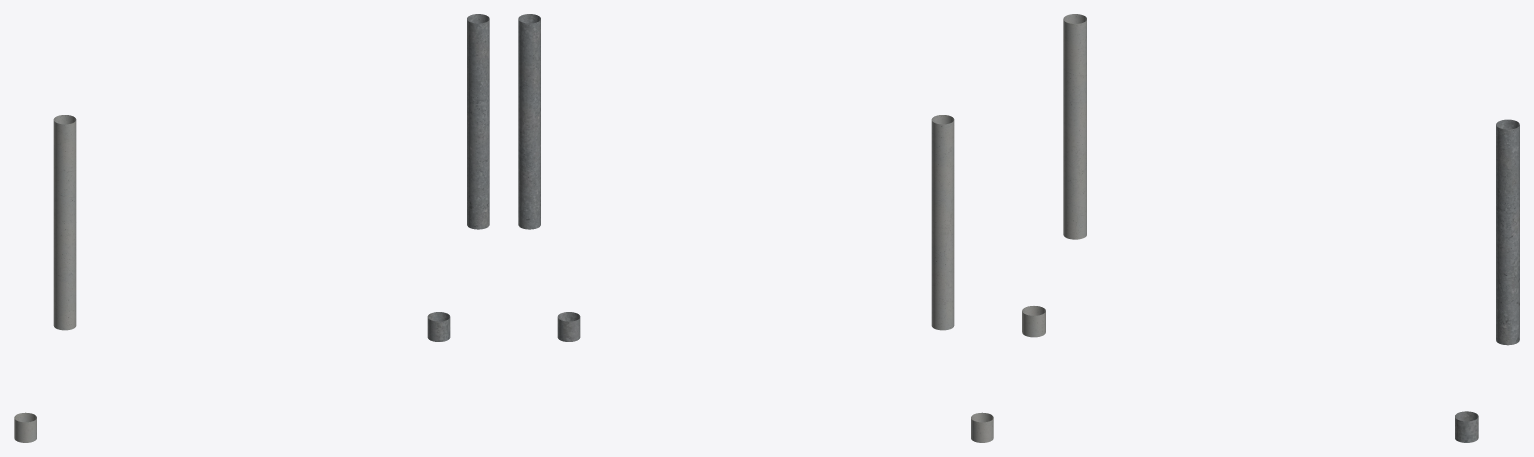
The model's file is modular_pipes.glb.
3 views of the same model, side by side, from view 1: azimuth 30°, elevation 25°; view 2: azimuth 150°, elevation 25°; view 3: azimuth 330°, elevation 25° (orthographic). The views are drawn at different scales.
Parts seen in each view (by area): view 1: pipe_100cm_pvc, pipe_100cm_metal, pipe_10cm_metal, pipe_10cm_pvc; view 2: pipe_100cm_pvc, pipe_100cm_metal, pipe_10cm_metal, pipe_10cm_pvc; view 3: pipe_100cm_metal, pipe_100cm_pvc, pipe_10cm_pvc, pipe_10cm_metal.
Boxes of the visible parts, x1=… form: pipe_100cm_pvc: x1=53, y1=115, x2=76, y2=330; pipe_100cm_metal: x1=467, y1=14, x2=489, y2=229; pipe_10cm_metal: x1=427, y1=312, x2=450, y2=341; pipe_10cm_pvc: x1=14, y1=412, x2=36, y2=442; pipe_100cm_pvc: x1=931, y1=115, x2=954, y2=330; pipe_100cm_metal: x1=518, y1=14, x2=540, y2=229; pipe_10cm_metal: x1=557, y1=312, x2=580, y2=341; pipe_10cm_pvc: x1=971, y1=412, x2=993, y2=442; pipe_100cm_metal: x1=1496, y1=119, x2=1519, y2=345; pipe_100cm_pvc: x1=1063, y1=14, x2=1086, y2=239; pipe_10cm_pvc: x1=1022, y1=306, x2=1045, y2=337; pipe_10cm_metal: x1=1455, y1=411, x2=1478, y2=442.
Size of the model in its own units: 2.4 by 1.5 by 0.1.
2 materials, 2 textured.
